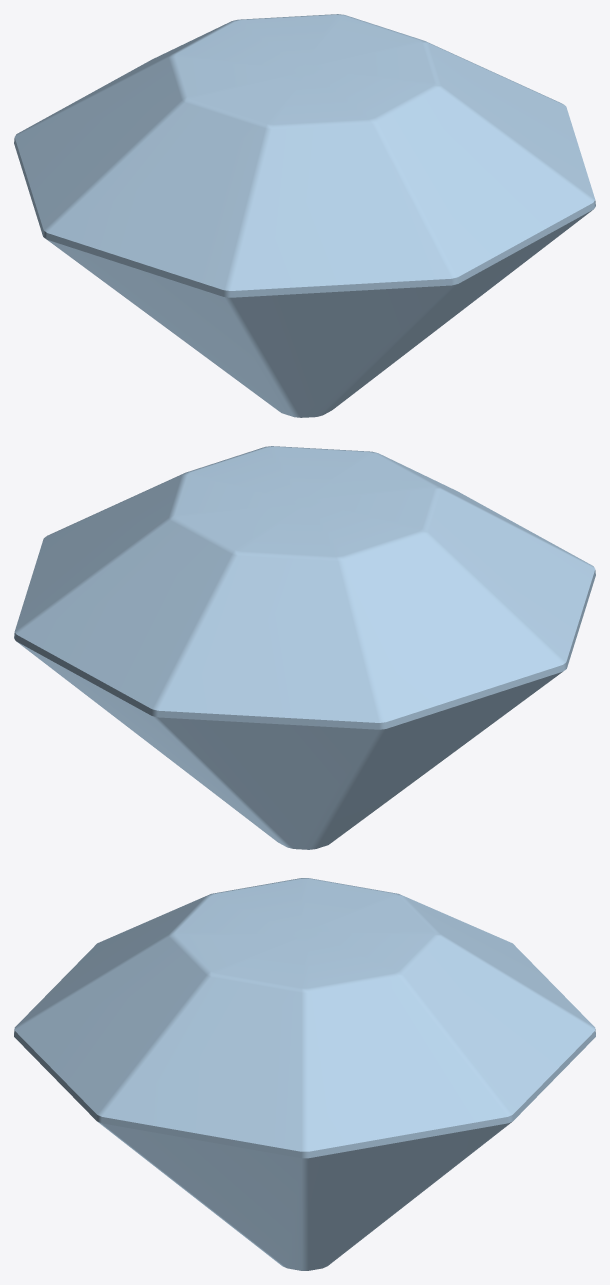
File: houseki.fbx
The picture shows the model from 3 angles, top to bottom: view 1: azimuth 30°, elevation 25°; view 2: azimuth 150°, elevation 25°; view 3: azimuth 270°, elevation 25°; orthographic projection. The views are drawn at different scales.
Visible parts, largest first — view 1: pCylinder1; view 2: pCylinder1; view 3: pCylinder1.
Boxes of the visible parts, x1,y1,x2,y2 form: pCylinder1: (14,14,595,417); pCylinder1: (14,446,595,849); pCylinder1: (14,878,595,1270).
Size of the model in its own units: 3.22 by 2 by 3.22.
